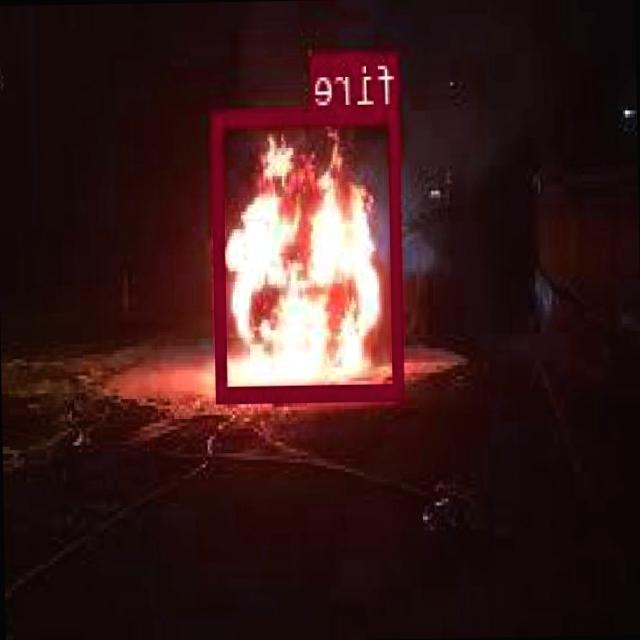fire: (214, 106, 406, 399)
